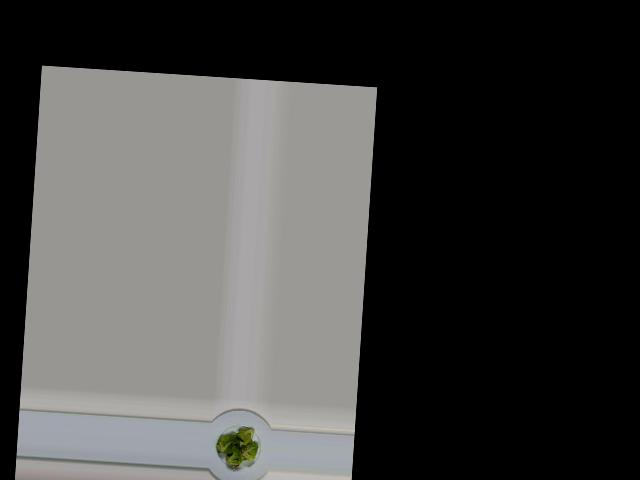lettuce: (211, 424, 258, 470)
